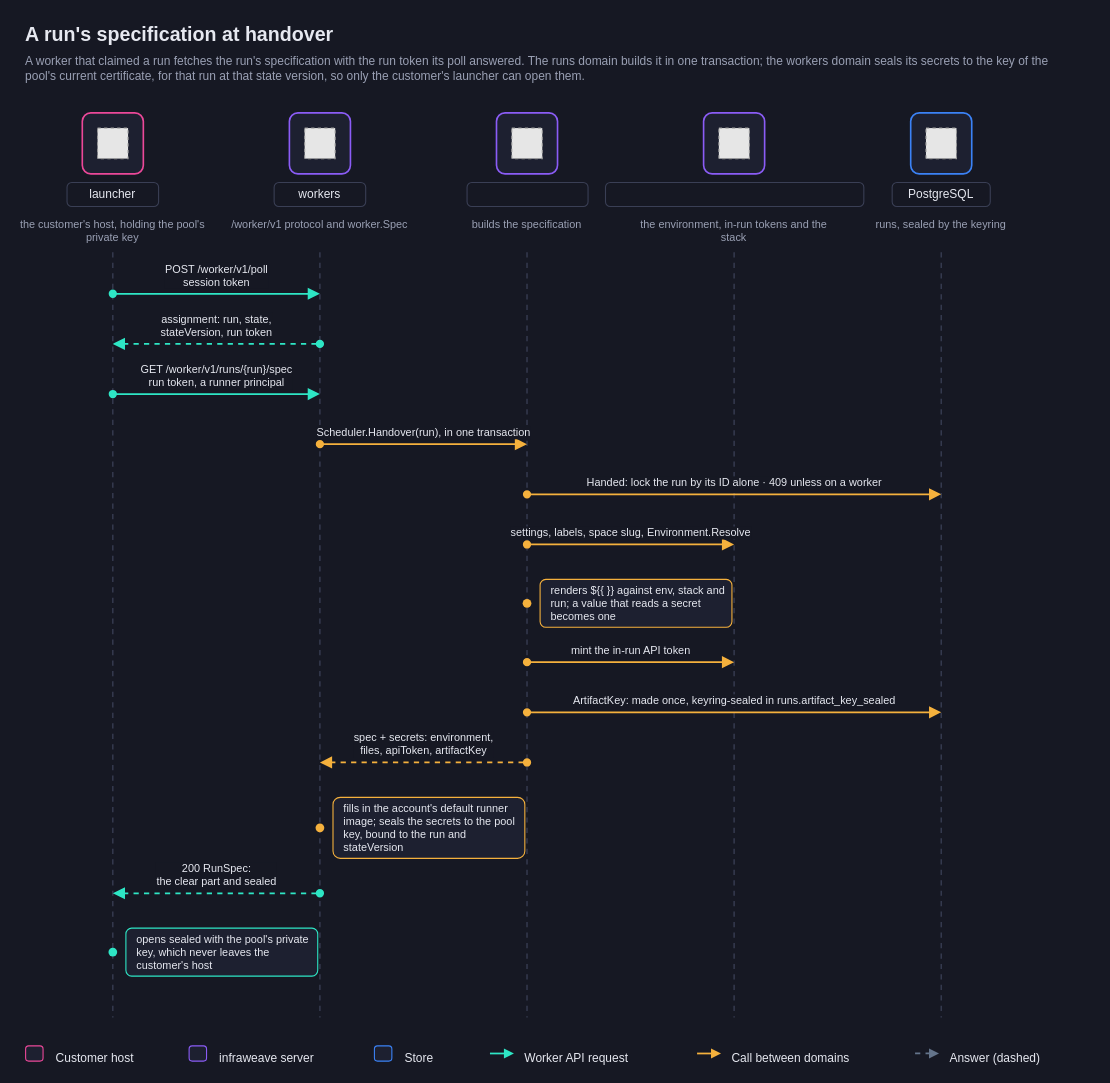
Image size: 1110x1083. Some labels were removed from this diagram. Grey dashed boxes stand in for pictures. Each missing label, with the centre of its shape:
"configuration · access · stacks" belongs at point (734, 194).
"runs handover" belongs at point (527, 194).
